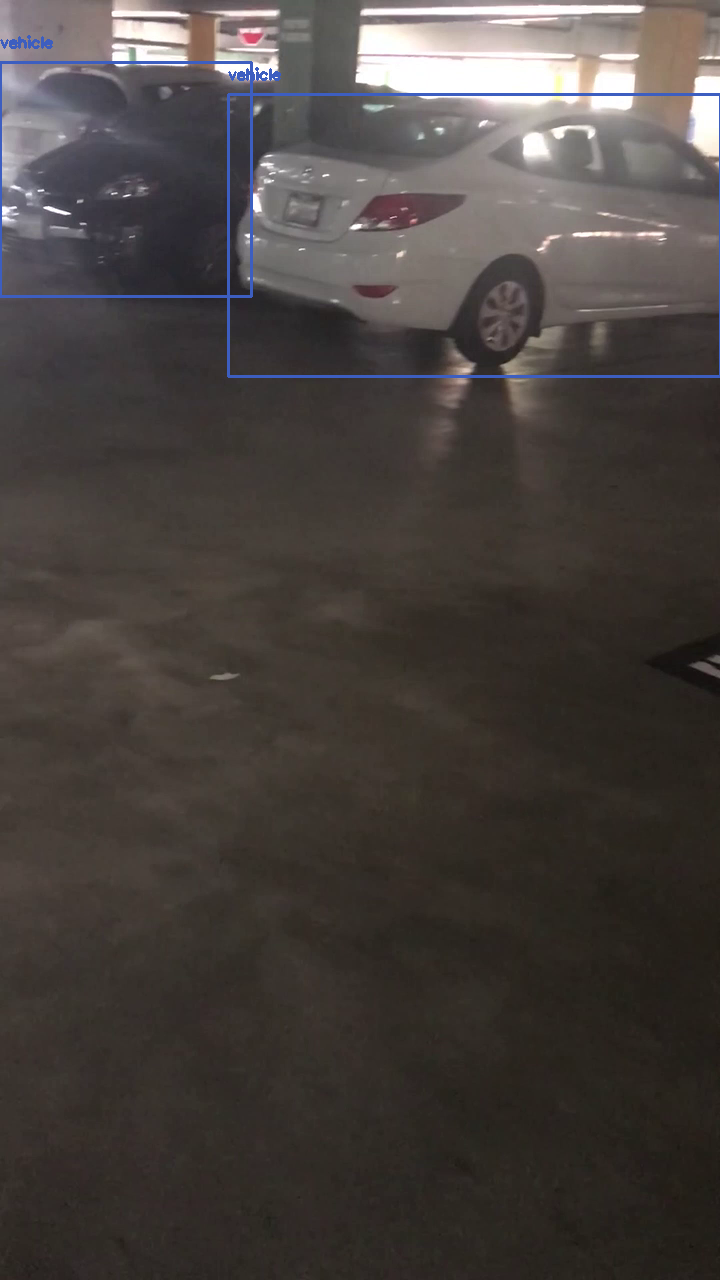vehicle: (228, 94, 720, 376), (0, 62, 251, 296)
